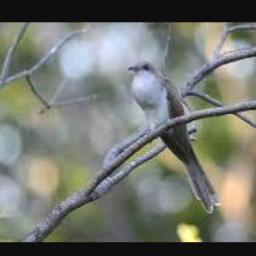Cuckoo: (127, 59, 221, 213)
